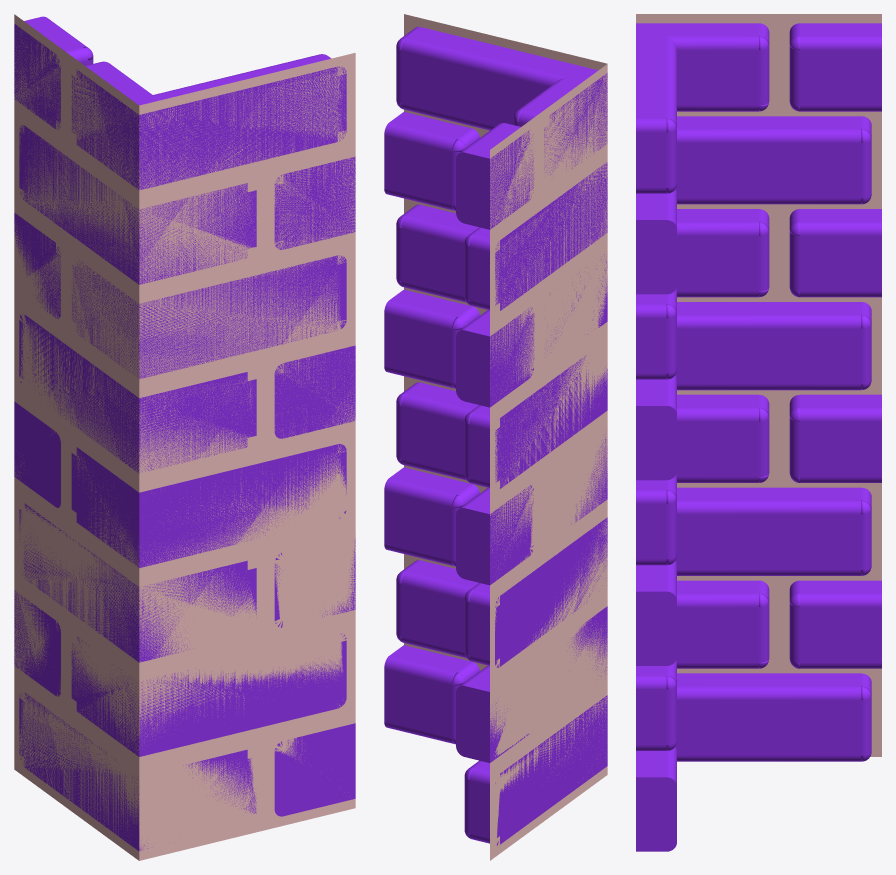
File: concave_2.dae
3 views of the same model, side by side, from view 1: azimuth 30°, elevation 25°; view 2: azimuth 150°, elevation 25°; view 3: azimuth 270°, elevation 25° (orthographic). The views are drawn at different scales.
Parts seen in each view (by area): view 1: corner_concave (×8), group_7 (×8), group_10 (×8), group_1 (×8), brick_half (×8); view 2: corner_concave (×13), brick_half (×8), group_7 (×5), group_10 (×4), group_1 (×4), group_5 (×4); view 3: corner_concave (×24), brick_half (×8), group_7 (×4), group_10 (×4), group_1 (×4), group_13 (×8), group_5 (×4), group_8 (×4), group_6 (×4), group_2 (×4).
Part boxes in pixels (bbox=[...]): corner_concave (×8): bbox=[19, 55, 346, 851]; group_7 (×8): bbox=[14, 53, 355, 860]; group_10 (×8): bbox=[66, 52, 265, 860]; group_1 (×8): bbox=[14, 14, 355, 829]; brick_half (×8): bbox=[14, 17, 355, 815]; corner_concave (×13): bbox=[401, 27, 607, 844]; brick_half (×8): bbox=[384, 112, 534, 762]; group_7 (×5): bbox=[404, 14, 607, 860]; group_10 (×4): bbox=[539, 64, 607, 735]; group_1 (×4): bbox=[490, 114, 538, 771]; group_5 (×4): bbox=[384, 122, 456, 684]; corner_concave (×24): bbox=[636, 23, 861, 761]; brick_half (×8): bbox=[636, 23, 881, 851]; group_7 (×4): bbox=[677, 107, 881, 756]; group_10 (×4): bbox=[636, 14, 779, 664]; group_1 (×4): bbox=[779, 14, 881, 664]; group_13 (×8): bbox=[666, 128, 871, 755]; group_5 (×4): bbox=[800, 36, 881, 607]; group_8 (×4): bbox=[759, 46, 769, 662]; group_6 (×4): bbox=[789, 46, 799, 662]; group_2 (×4): bbox=[800, 105, 881, 668].
Bounding box in the file's own units: 23.62 × 23.62 × 78.74.
